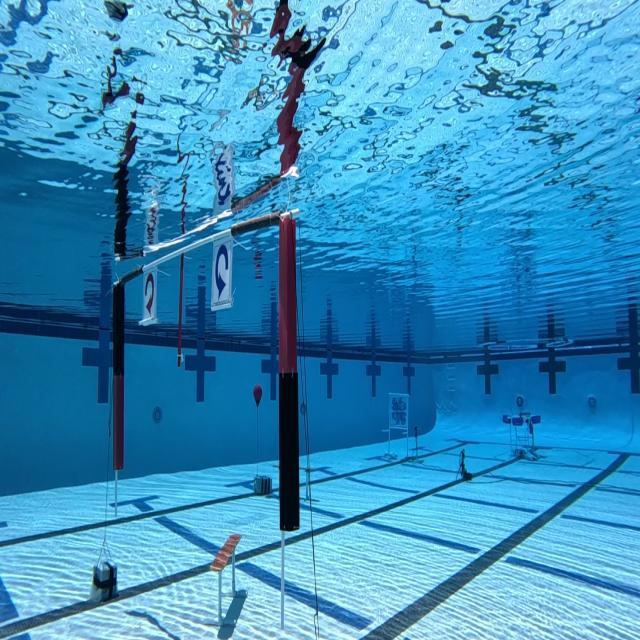blue_side: (208, 238, 234, 322)
red_side: (140, 264, 158, 328)
